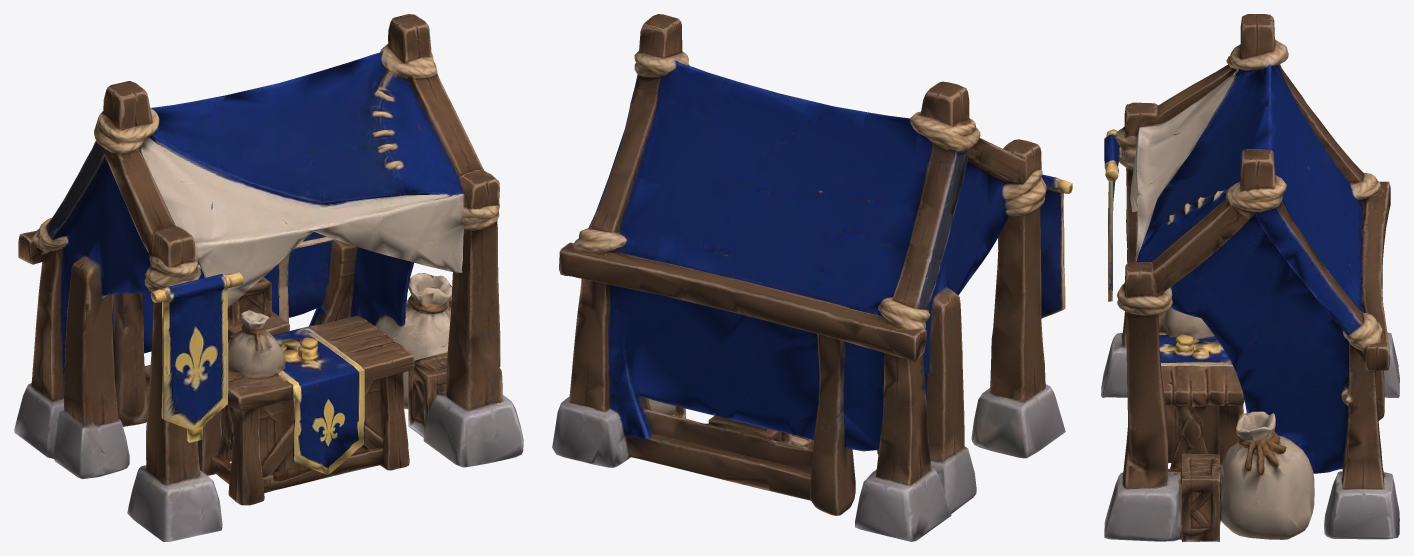
Rendered from bank_1_2_3.glb.
The picture shows the model from 3 angles, left to right: view 1: azimuth 30°, elevation 25°; view 2: azimuth 150°, elevation 25°; view 3: azimuth 270°, elevation 25°; orthographic projection. The views are drawn at different scales.
Bounding box in the file's own units: 1.85 × 1.78 × 1.29.
1 material, 1 textured.
